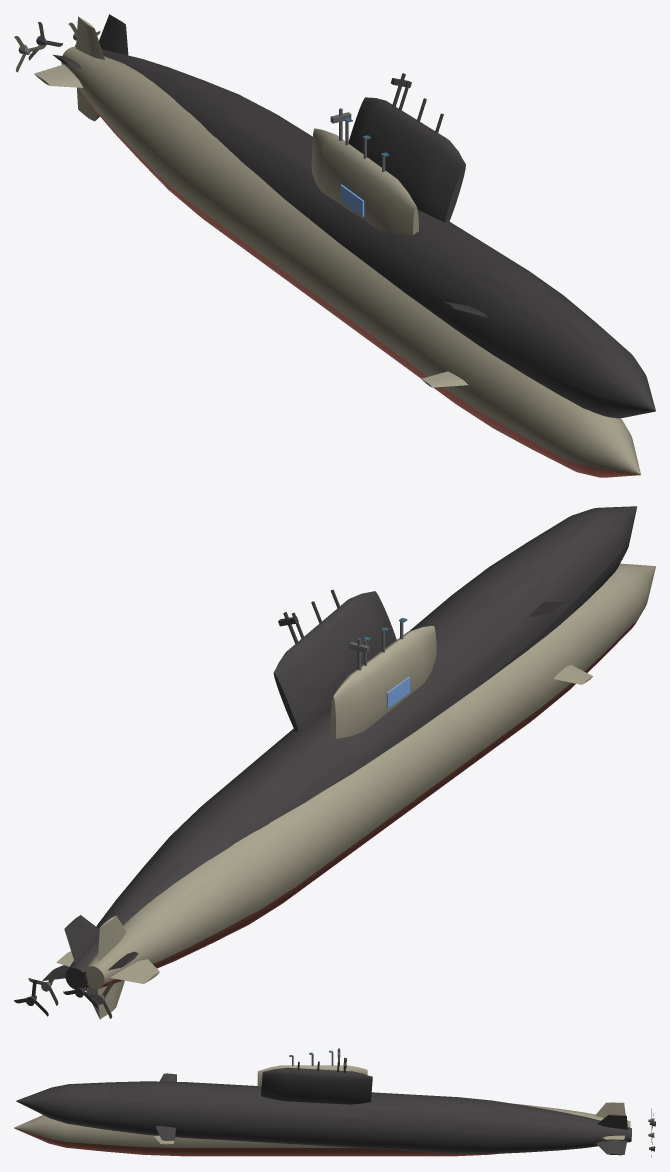
File: submarine__romeo_class.glb
3 views of the same model, one above another, from view 1: azimuth 30°, elevation 25°; view 2: azimuth 150°, elevation 25°; view 3: azimuth 270°, elevation 25° (orthographic). The views are drawn at different scales.
Visible parts, largest first — view 1: Hull_Mesh, Wreck; view 2: Hull_Mesh, Wreck; view 3: Wreck, Hull_Mesh.
Part boxes in pixels (bbox=[...]): Hull_Mesh: bbox=[14, 16, 640, 477]; Wreck: bbox=[28, 14, 655, 418]; Hull_Mesh: bbox=[28, 563, 655, 1018]; Wreck: bbox=[14, 506, 636, 1019]; Wreck: bbox=[16, 1057, 655, 1157]; Hull_Mesh: bbox=[14, 1050, 654, 1156].
Size of what is drawn, in the model's own units: 11.76 by 14.7 by 75.76.
